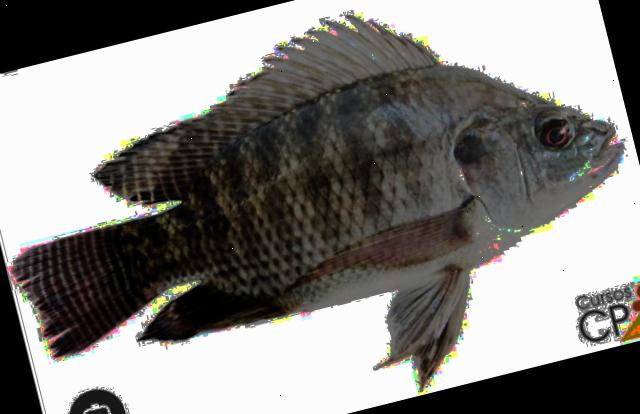Healthy Fish: (16, 14, 625, 385)
